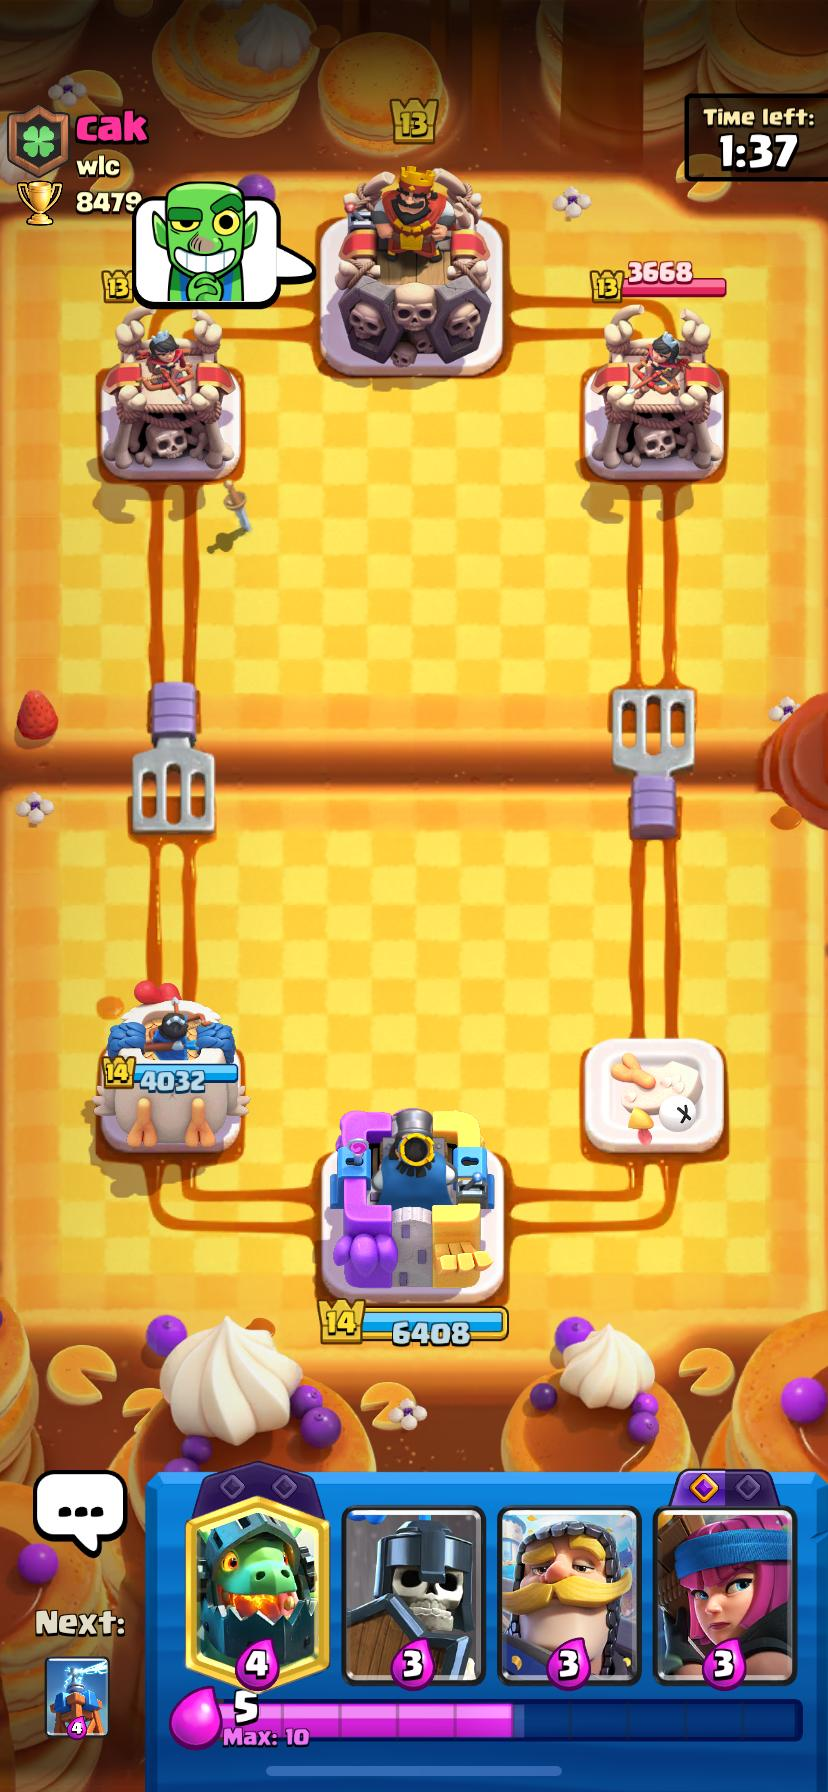EKingTower: (336, 168, 489, 370)
EnemyPrincessTower: (586, 305, 723, 477), (103, 310, 234, 472)
OwnKingTower: (334, 1109, 489, 1293)
OwnPrincessTower: (95, 997, 247, 1150)
TowerDown: (589, 1040, 727, 1154)
